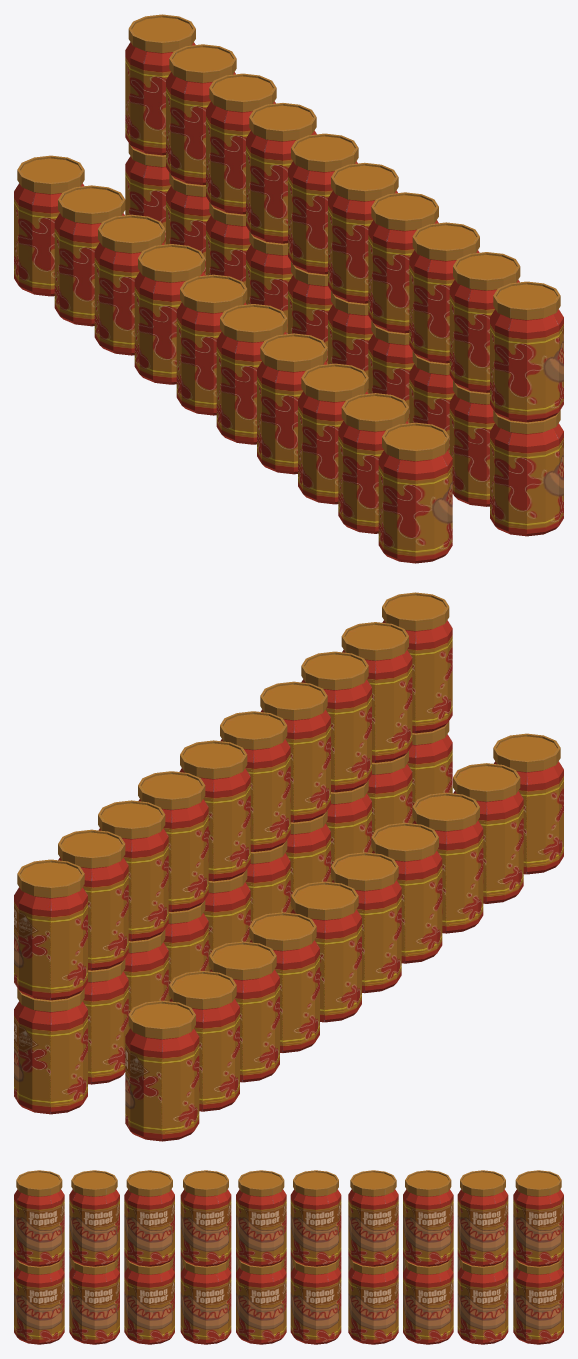
Rendered from S.MustardPile.fbx.
3 views of the same model, one above another, from view 1: azimuth 30°, elevation 25°; view 2: azimuth 150°, elevation 25°; view 3: azimuth 270°, elevation 25° (orthographic). The views are drawn at different scales.
Parts seen in each view (by area): view 1: MustardJarPile; view 2: MustardJarPile; view 3: MustardJarPile.
Boxes of the visible parts, x1,y1,x2,y2 form: MustardJarPile: [14, 14, 563, 563]; MustardJarPile: [14, 592, 563, 1141]; MustardJarPile: [14, 1170, 563, 1344].
Size of the model in its own units: 82.94 by 102 by 329.
